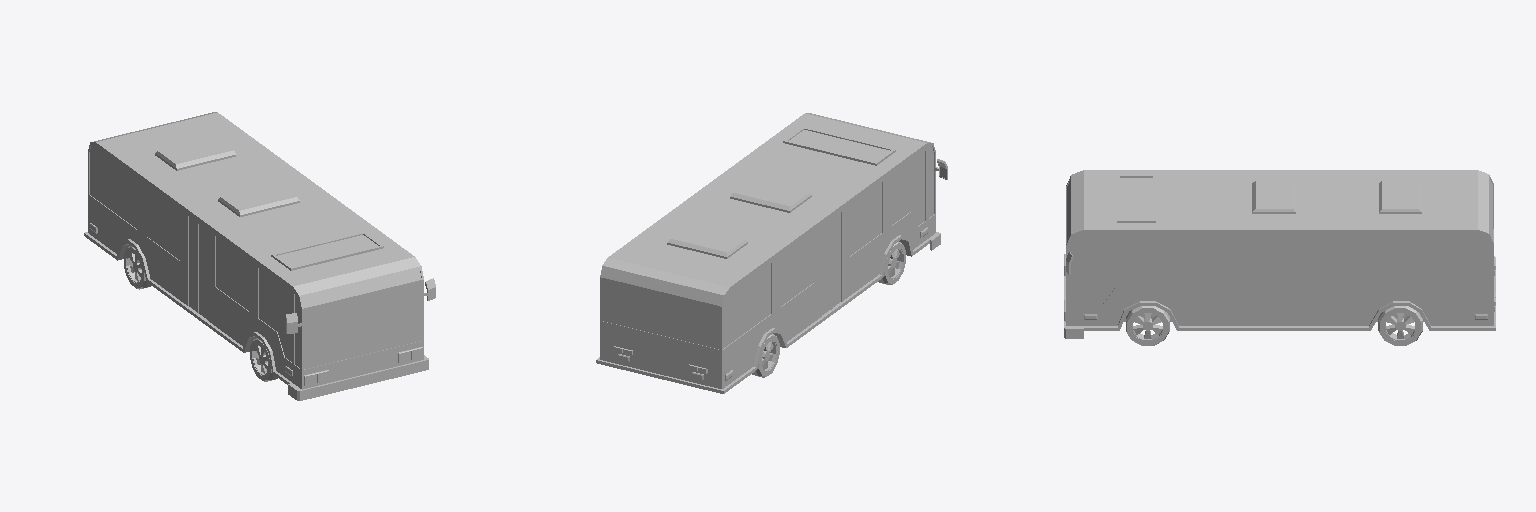
Rendered from bus.obj.
3 views of the same model, side by side, from view 1: azimuth 30°, elevation 25°; view 2: azimuth 150°, elevation 25°; view 3: azimuth 270°, elevation 25° (orthographic).
Visible parts, largest first — view 1: bus_Cube; view 2: bus_Cube; view 3: bus_Cube.
Boxes of the visible parts, x1,y1,x2,y2 form: bus_Cube: [84, 112, 435, 400]; bus_Cube: [596, 113, 947, 393]; bus_Cube: [1064, 170, 1495, 345].
Bounding box in the file's own units: 2.01 × 1.58 × 5.05.